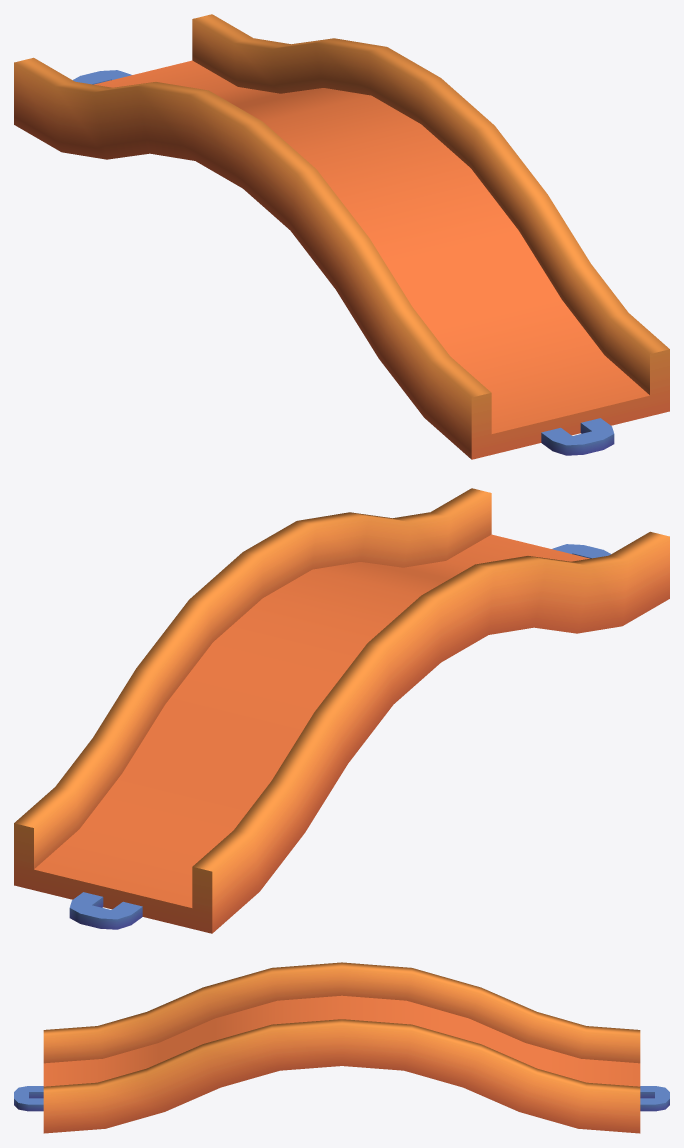
File: track-narrow-straight-bump-up.glb
The picture shows the model from 3 angles, top to bottom: view 1: azimuth 30°, elevation 25°; view 2: azimuth 150°, elevation 25°; view 3: azimuth 270°, elevation 25°; orthographic projection. The views are drawn at different scales.
Visible parts, largest first — view 1: track-narrow-straight-bump-up; view 2: track-narrow-straight-bump-up; view 3: track-narrow-straight-bump-up.
Boxes of the visible parts, x1,y1,x2,y2 form: track-narrow-straight-bump-up: (14,14,669,459); track-narrow-straight-bump-up: (14,488,669,933); track-narrow-straight-bump-up: (14,962,669,1133).
Size of the model in its own units: 1 by 0.7998 by 4.4.
1 material, 1 textured.
